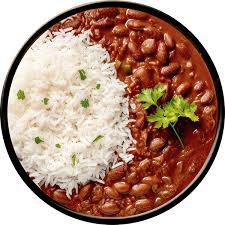rajma: (128, 27, 210, 194)
rice: (18, 40, 115, 180)
